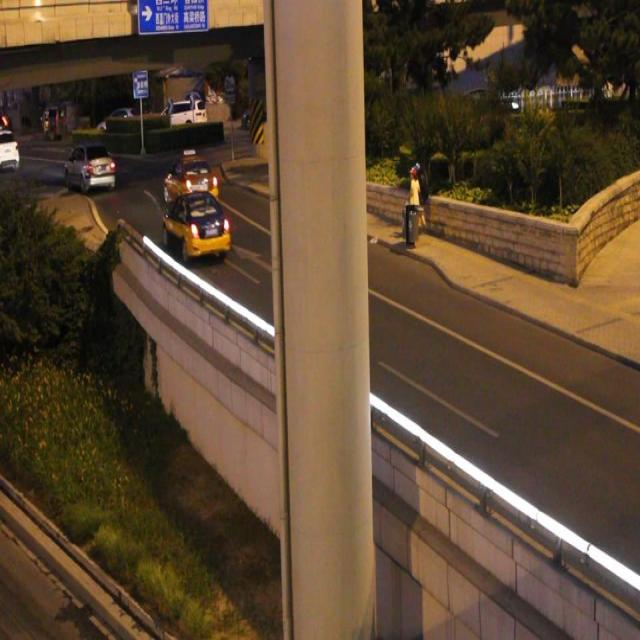car: (162, 185, 230, 262), (162, 148, 218, 209)
